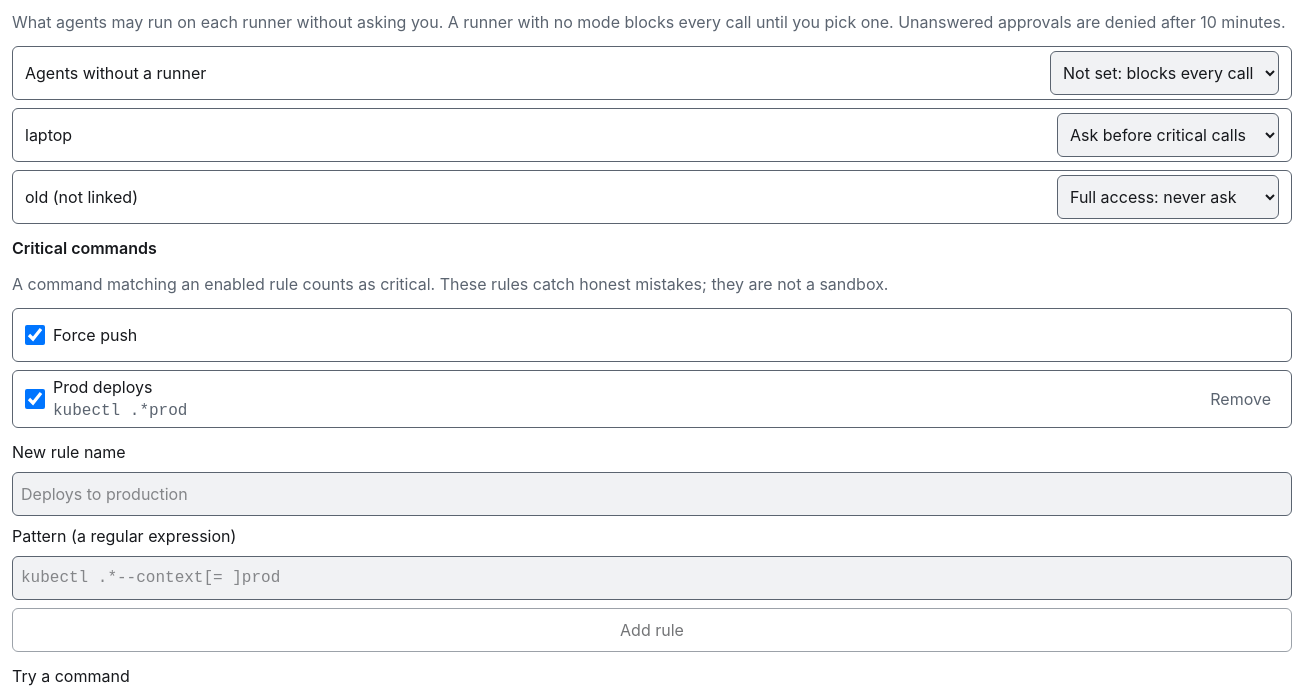
Test: AccessModes › refuses a rule name another rule uses
Type "Force push" into the field labelled "New rule name" at (652, 494), box x1=12 y1=472 x2=1292 y2=516
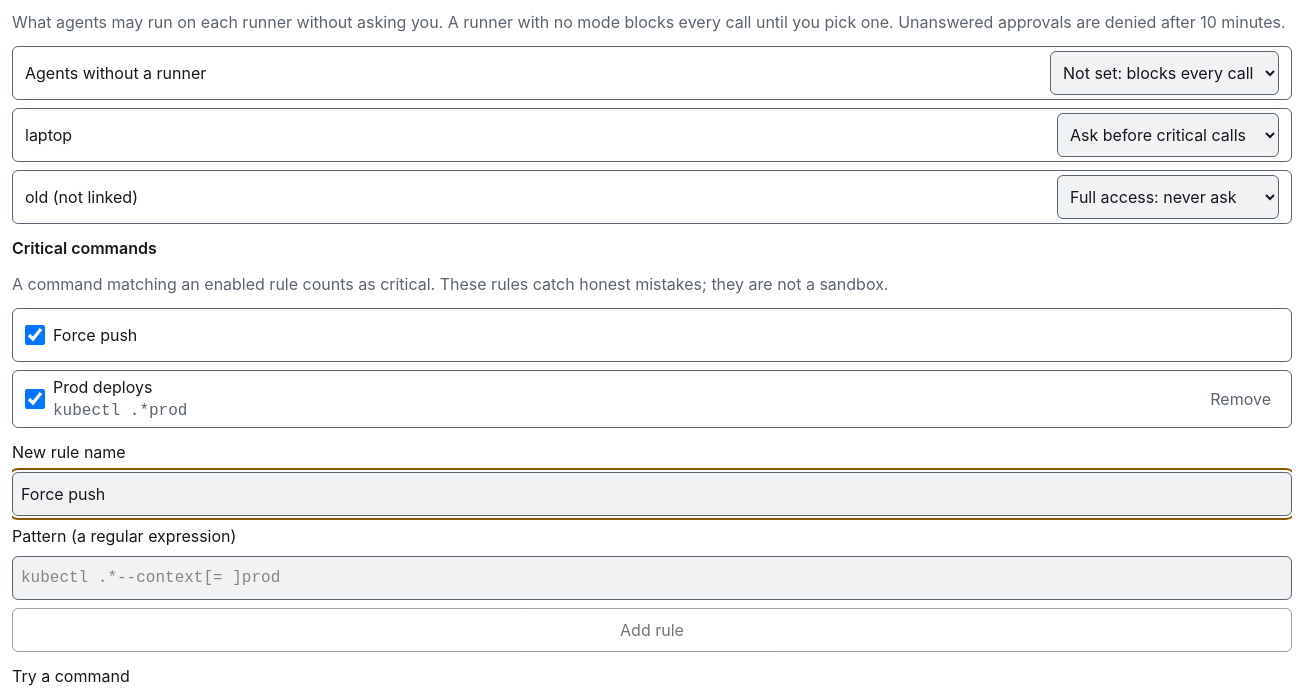
Type "x" into the field labelled "Pattern (a regular expression)" at (652, 578), box x1=12 y1=556 x2=1292 y2=600
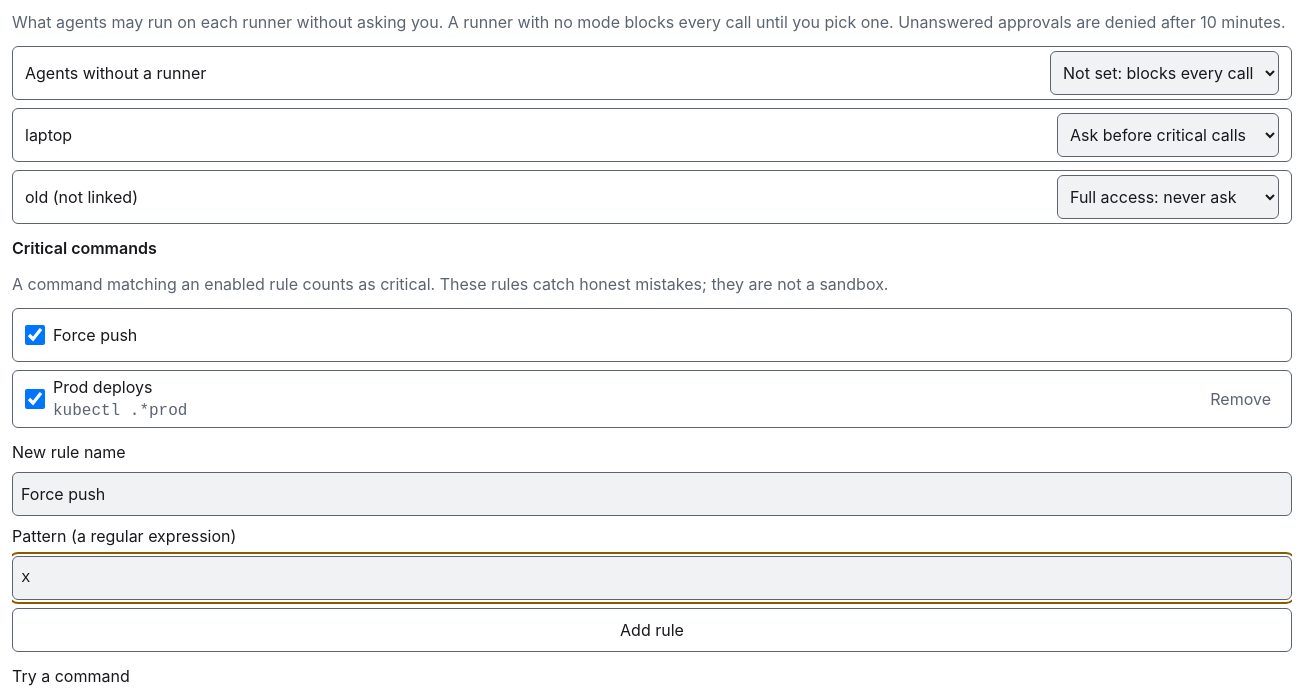
Click the button "Add rule" at (652, 630), box x1=12 y1=608 x2=1292 y2=652
(page scrolled)
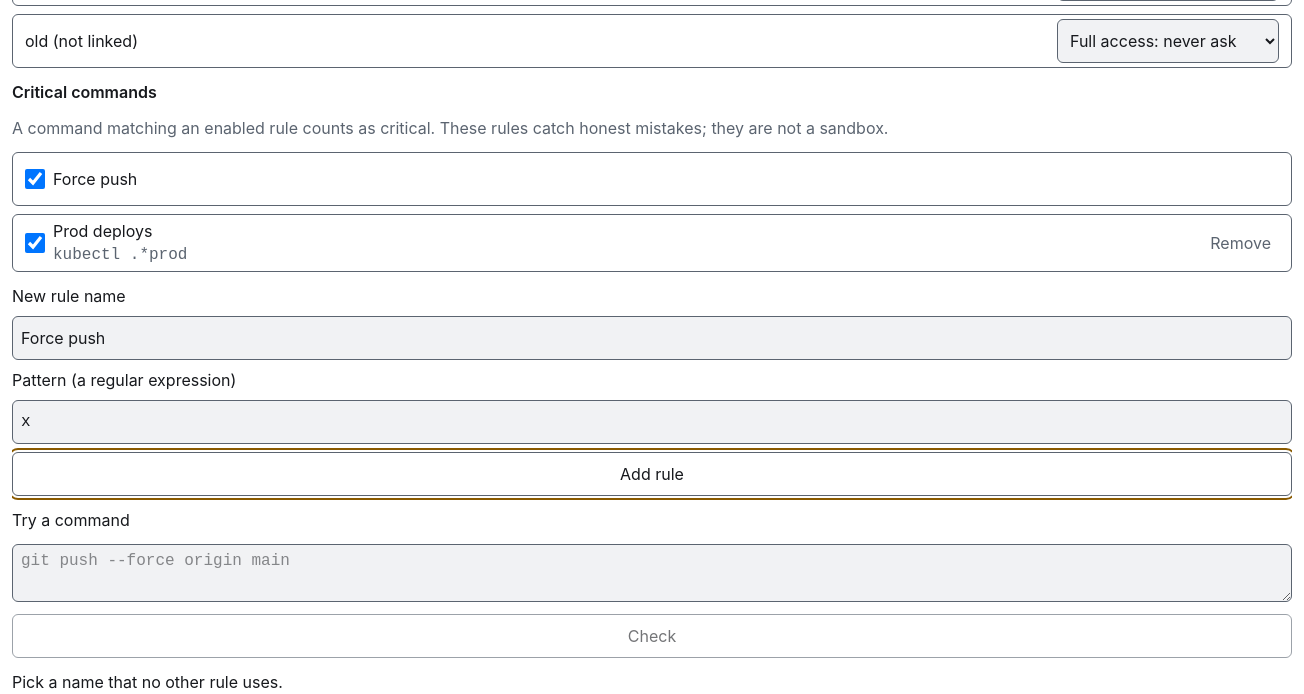
Expected: the message reads "Pick a name that no other rule uses.", x1=12 y1=672 x2=283 y2=692
